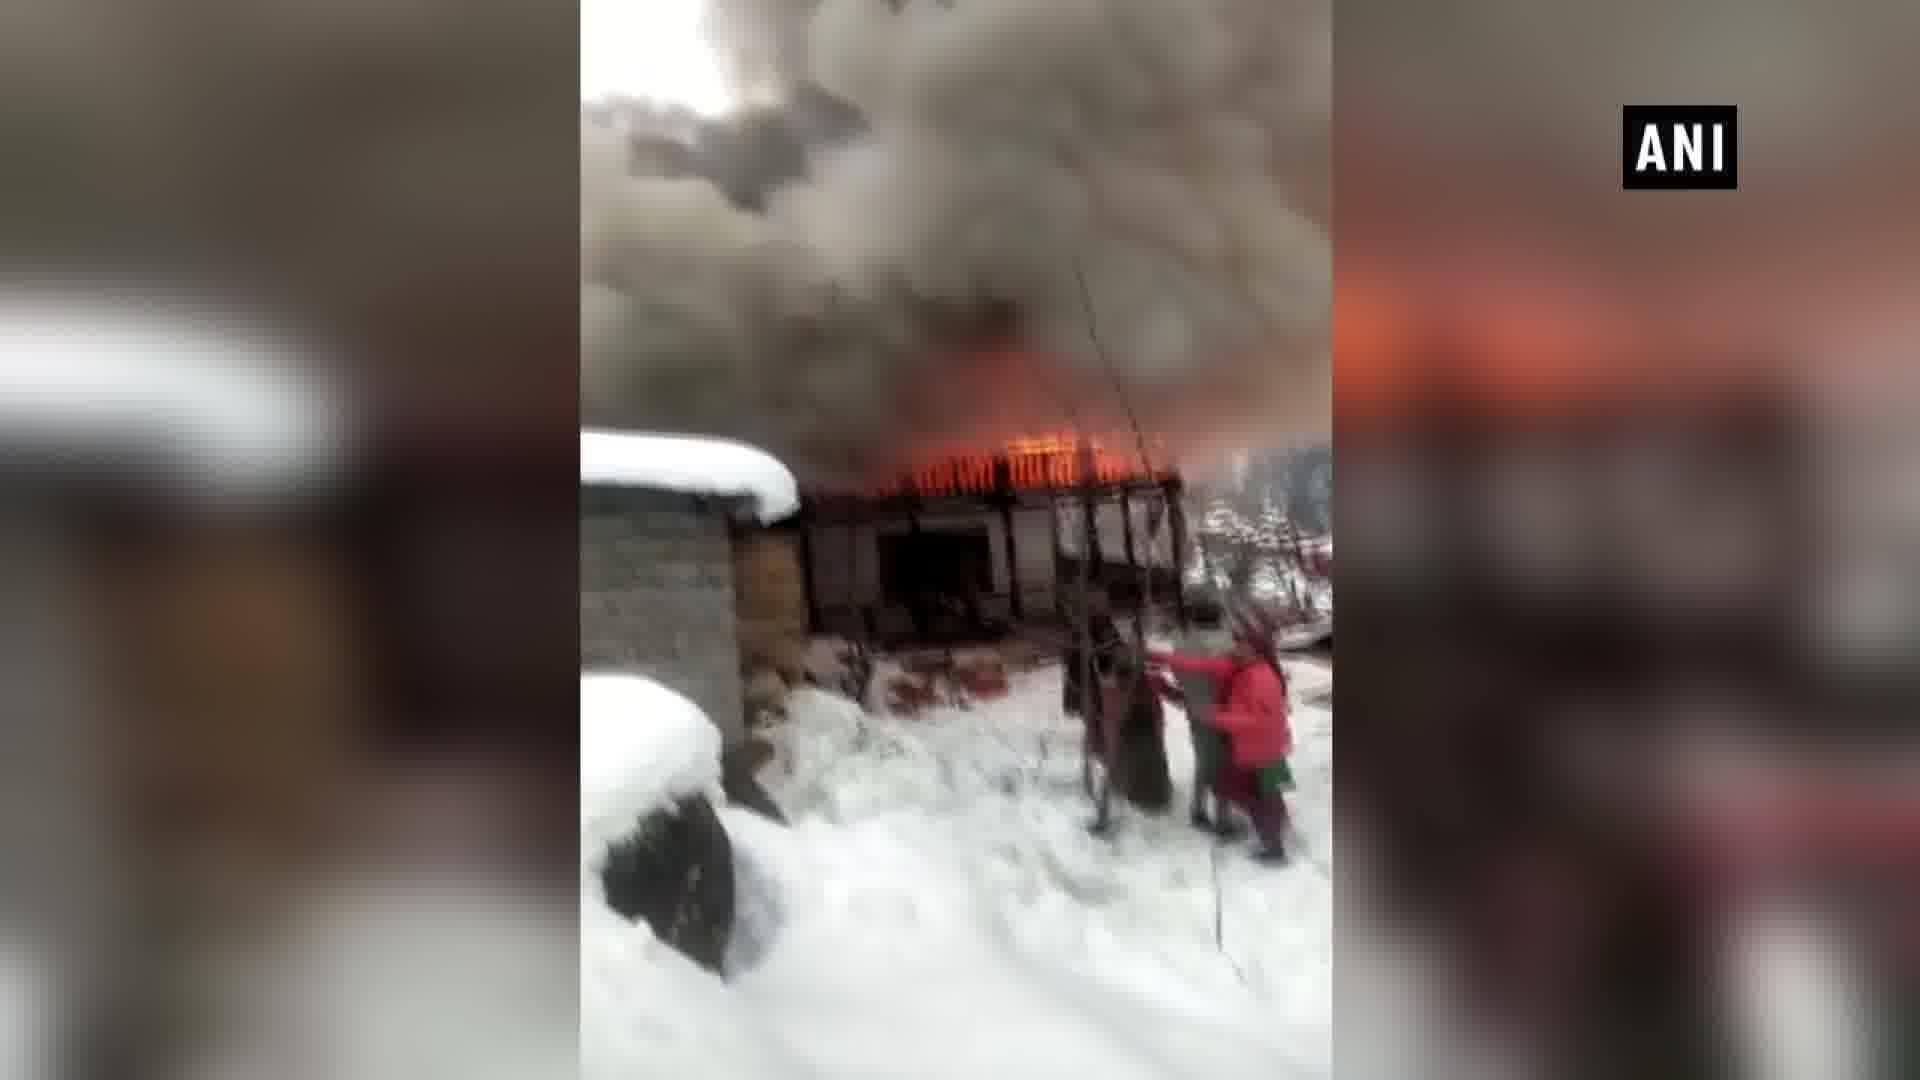fire: (1007, 440, 1098, 469)
smoke: (959, 45, 1309, 363), (621, 185, 940, 390)
